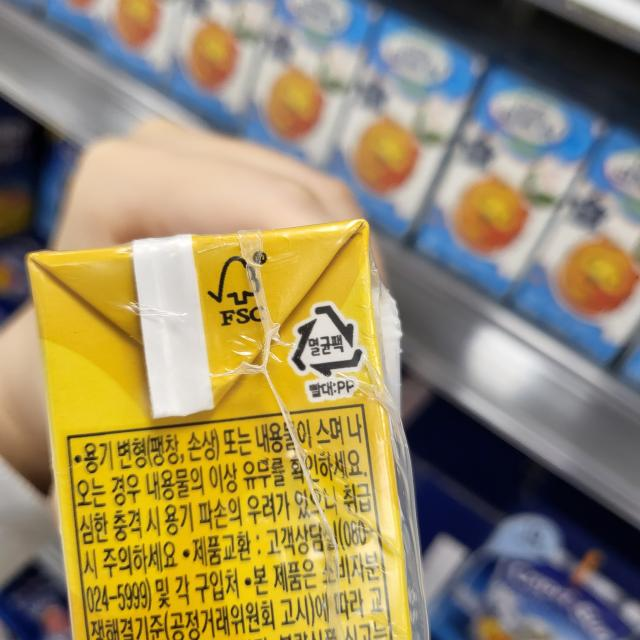SterilizedPack: (291, 300, 365, 377)
